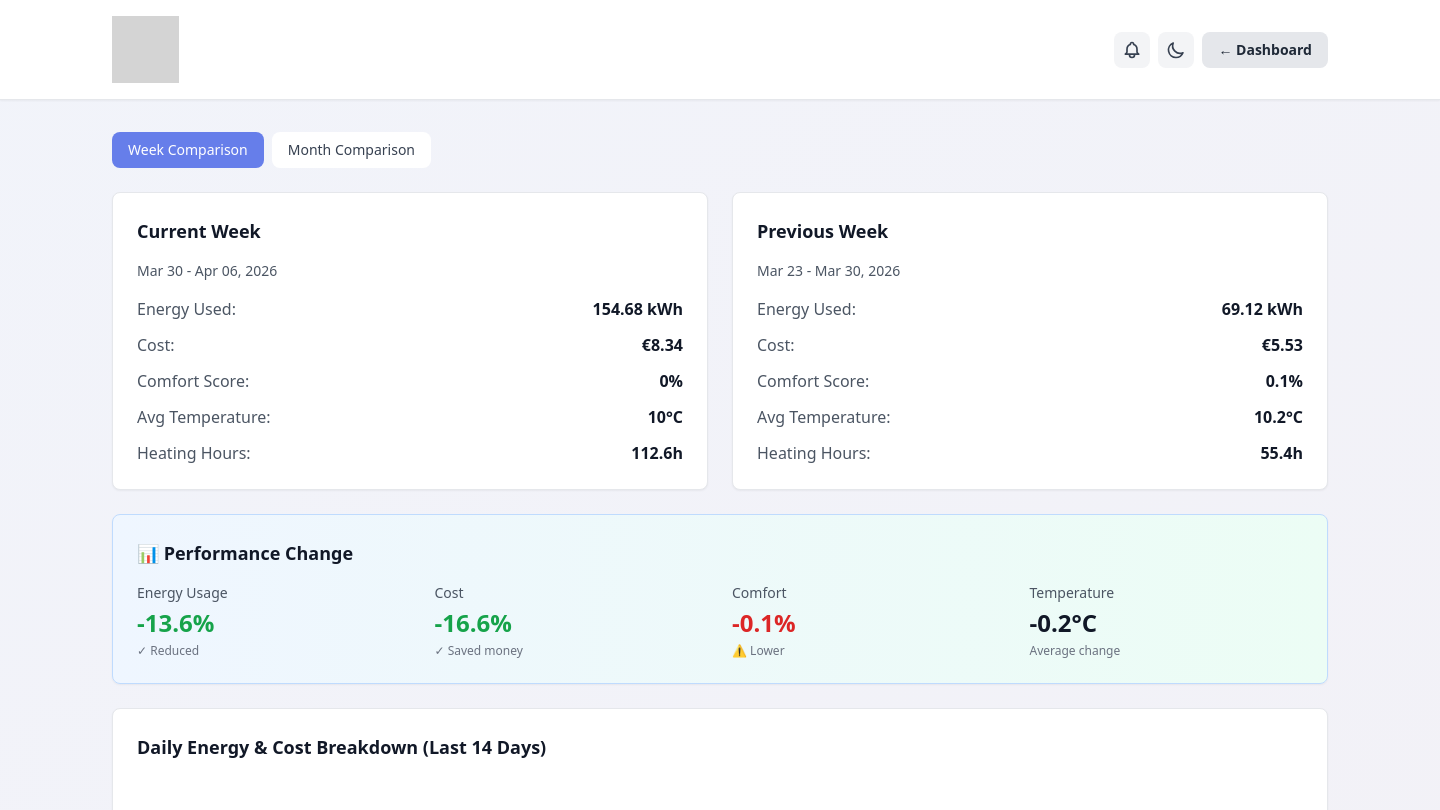
it: ComparisonPage › can toggle back to week view from month view
Go to month view
Click the button "Month Comparison" at [351, 150], box [272,132,431,168]
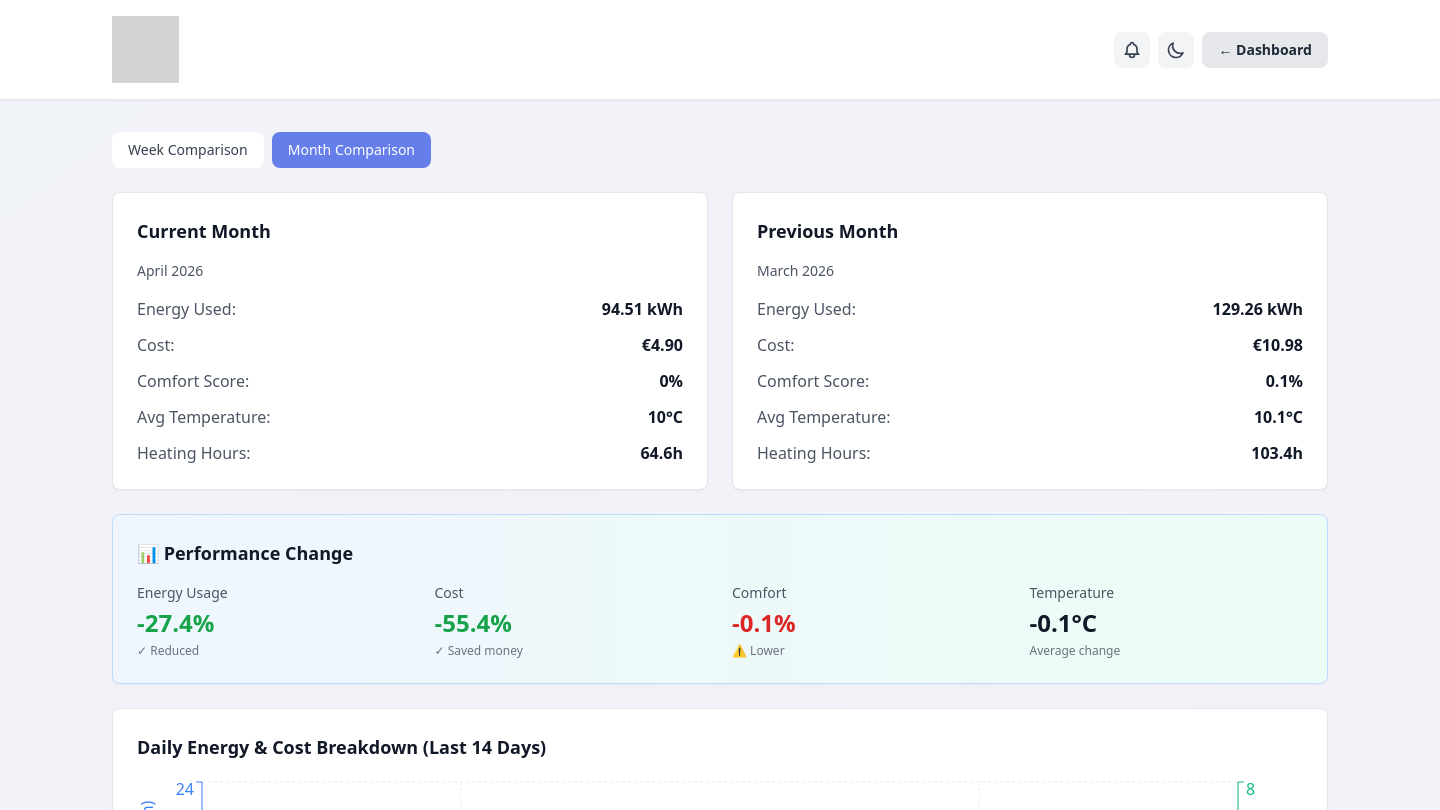
Expected: the text "April 2026" is shown, [137,261,203,280]
Go back to week view
Click the button "Week Comparison" at [188, 150], box [112,132,264,168]
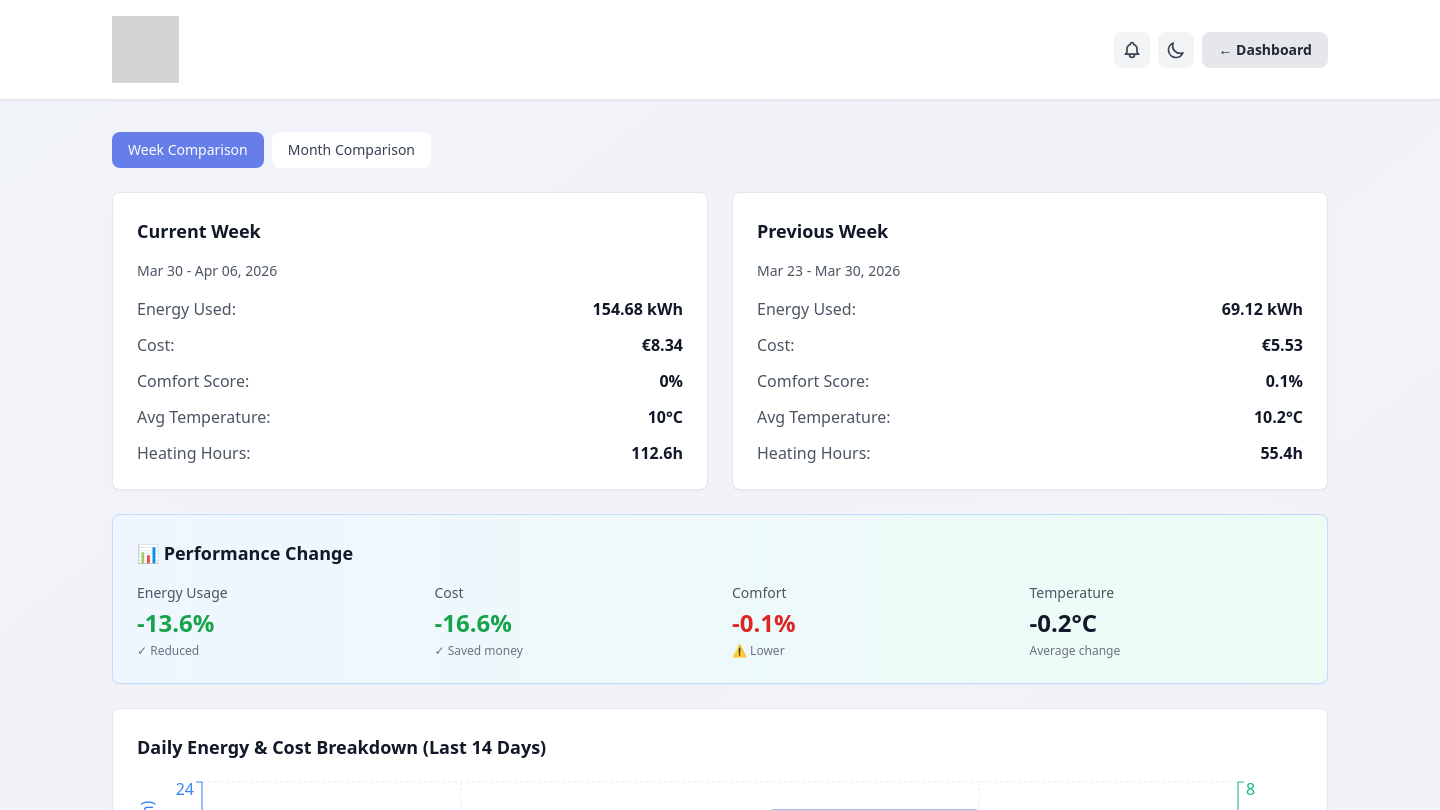
Expected: the text "Mar 30 - Apr 06, 2026" is shown, [137,261,277,280]
